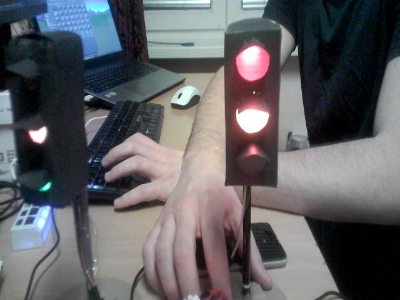trafficlight_green: (14, 39, 65, 204)
trafficlight_red: (226, 29, 278, 181)
